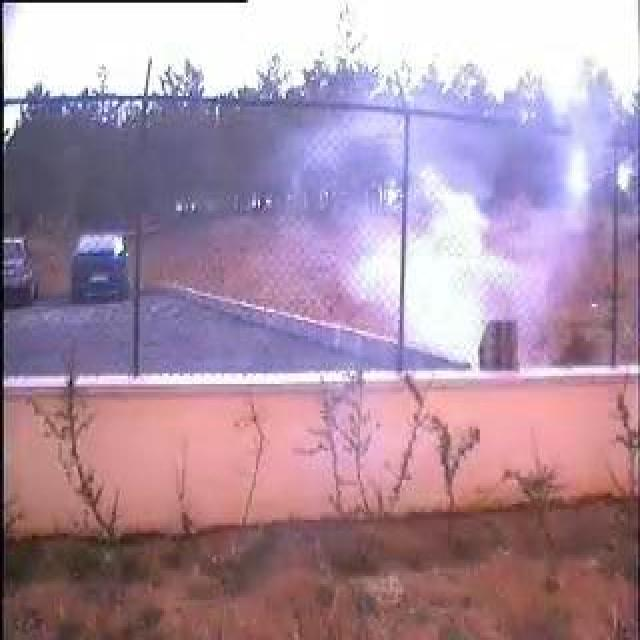Smoke: (333, 113, 603, 359)
